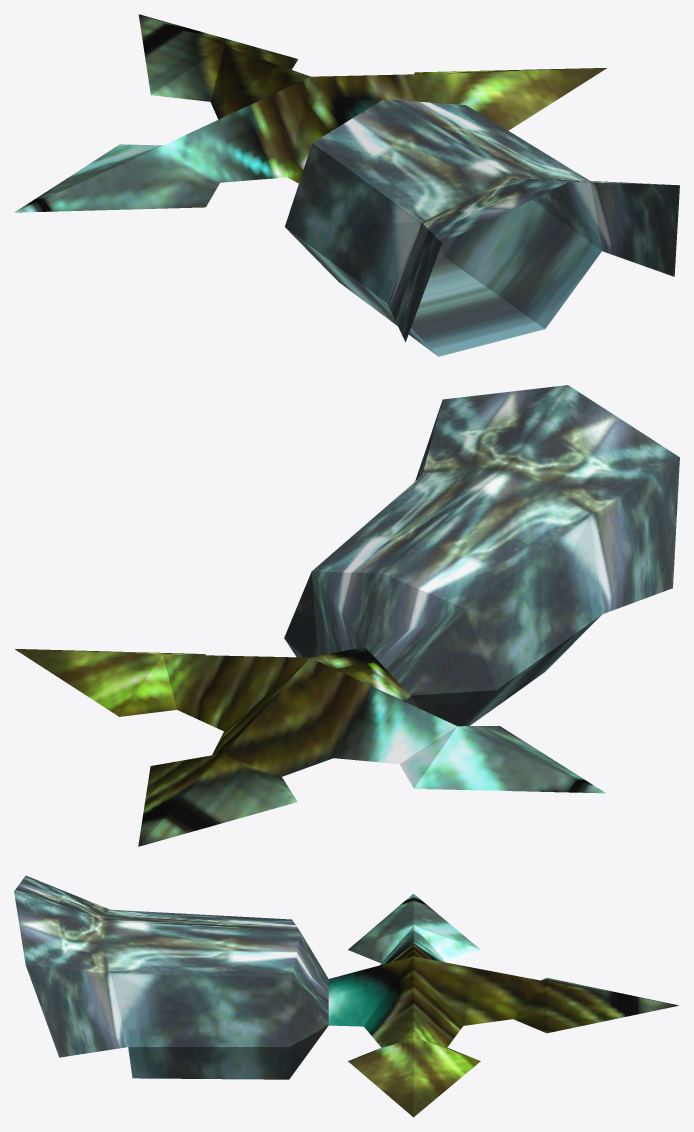
Rendered from twinblade101_4.obj.
The picture shows the model from 3 angles, top to bottom: view 1: azimuth 30°, elevation 25°; view 2: azimuth 150°, elevation 25°; view 3: azimuth 270°, elevation 25°; orthographic projection. The views are drawn at different scales.
Visible parts, largest first — view 1: MDL_cwdhkn01_4r; view 2: MDL_cwdhkn01_4r; view 3: MDL_cwdhkn01_4r.
Boxes of the visible parts, x1=… form: MDL_cwdhkn01_4r: x1=14, y1=14, x2=679, y2=356; MDL_cwdhkn01_4r: x1=15, y1=385, x2=679, y2=846; MDL_cwdhkn01_4r: x1=14, y1=875, x2=679, y2=1117.
Size of the model in its own units: 0.4525 by 0.1587 by 0.5687.
